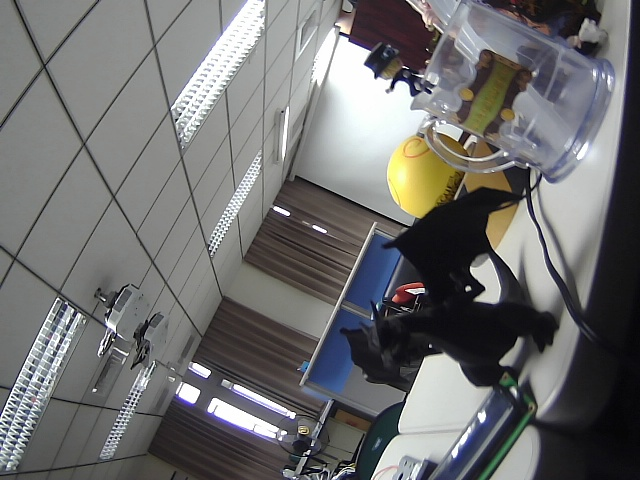charizard: (306, 180, 611, 424)
